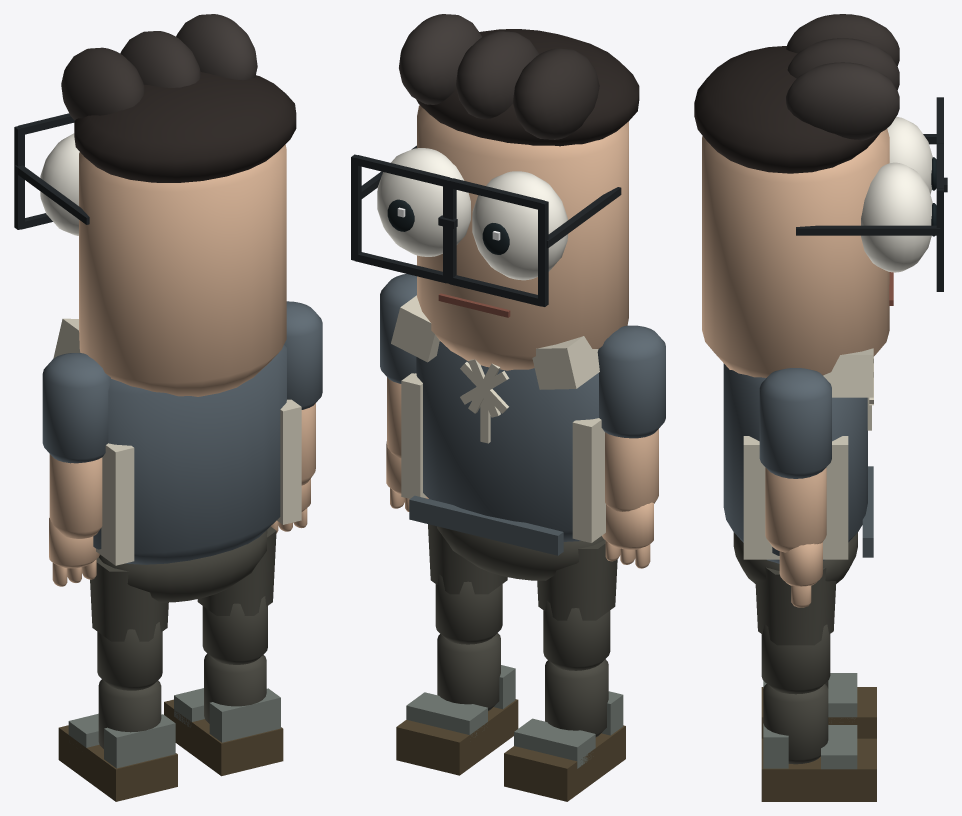
The model's file is spectator_4.glb.
3 renders of one model, left to right at view 1: azimuth 30°, elevation 25°; view 2: azimuth 150°, elevation 25°; view 3: azimuth 270°, elevation 25°, orthographic. The views are drawn at different scales.
Visible parts, largest first — view 1: Head, RallySpectator, LeftShin, RightShin, LeftLeg, LeftArm, LeftForearm, RightLeg, RightArm, RightForearm; view 2: Head, RallySpectator, RightShin, LeftShin, LeftLeg, LeftArm, LeftForearm, RightLeg, RightArm, RightForearm; view 3: Head, RallySpectator, RightShin, RightLeg, RightArm, RightForearm, LeftShin.
Part boxes in pixels (x1,y1,x2,y2): Head: (14, 14, 296, 396); RallySpectator: (53, 318, 301, 602); LeftShin: (58, 679, 177, 801); RightShin: (164, 653, 283, 776); LeftLeg: (90, 557, 168, 690); LeftArm: (42, 353, 110, 463); LeftForearm: (49, 454, 102, 586); RightLeg: (197, 526, 276, 664); RightArm: (284, 301, 322, 409); RightForearm: (270, 403, 315, 533); Head: (351, 14, 639, 370); RallySpectator: (391, 295, 605, 580); RightShin: (396, 633, 518, 775); LeftShin: (504, 659, 625, 801); LeftLeg: (537, 540, 617, 670); LeftArm: (597, 325, 665, 438); LeftForearm: (602, 429, 658, 568); RightLeg: (428, 524, 507, 644); RightArm: (380, 274, 416, 383); RightForearm: (386, 377, 428, 511); Head: (694, 14, 947, 377); RallySpectator: (723, 348, 873, 583); RightShin: (761, 684, 876, 801); RightLeg: (755, 567, 836, 694); RightArm: (759, 368, 831, 478); RightForearm: (765, 467, 826, 607); LeftShin: (761, 673, 876, 738).
Bounding box in the file's own units: 0.87 × 2.21 × 0.7009.
